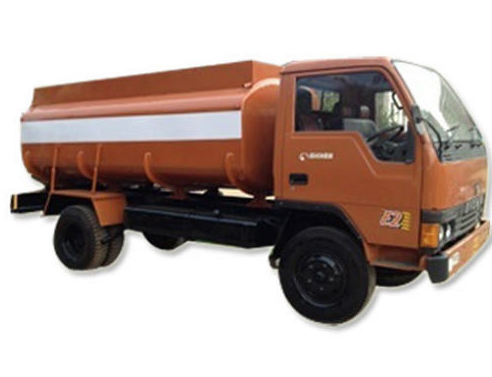truck: (8, 50, 492, 330)
